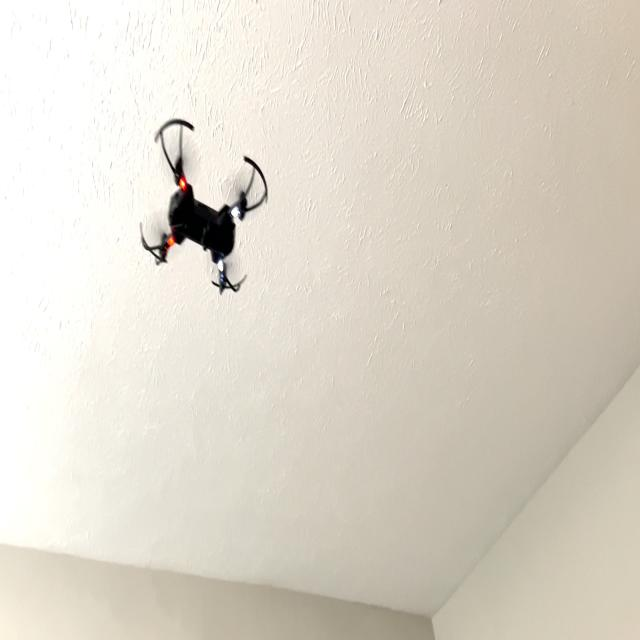drone: (130, 102, 278, 316)
